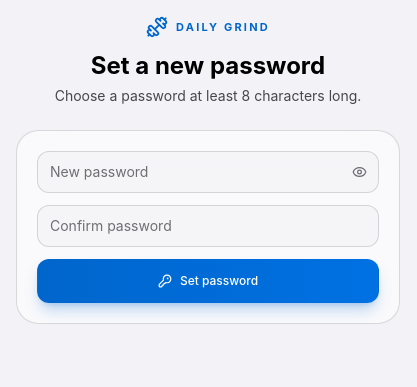
Test: PasswordResetScreen › shows error when passwords do not match
In the password field with placeholder "New password": (208, 172) [37,151,379,193], type "password123"
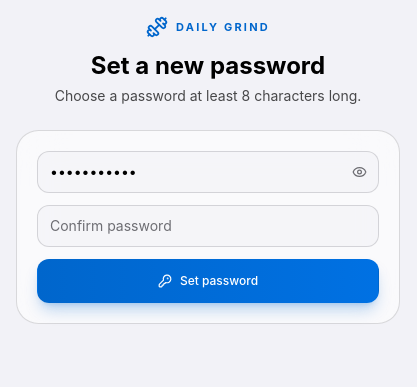
In the password field with placeholder "Confirm password": (208, 226) [37,205,379,247], type "different123"
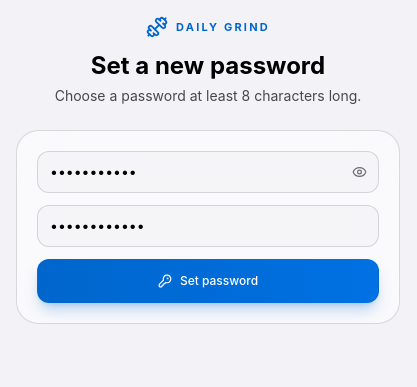
Click the button "Set password": (208, 281) [37,259,379,303]
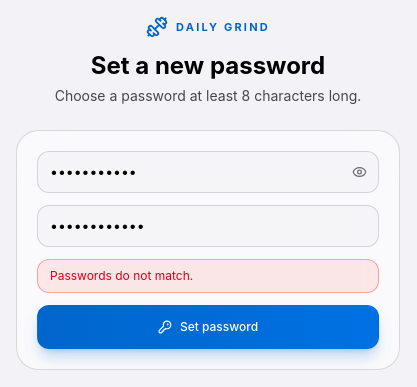
Check: the text "Passwords do not match." is shown, box [37,259,379,293]
